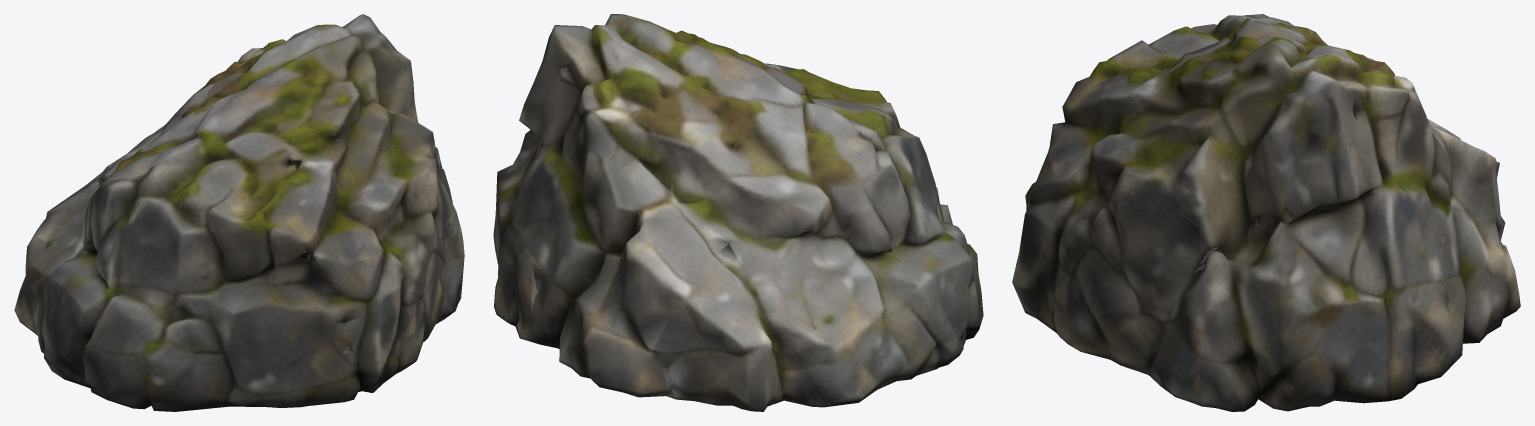
Rendered from rock2.glb.
3 views of the same model, side by side, from view 1: azimuth 30°, elevation 25°; view 2: azimuth 150°, elevation 25°; view 3: azimuth 270°, elevation 25° (orthographic). The views are drawn at different scales.
Visible parts, largest first — view 1: MV_rock2; view 2: MV_rock2; view 3: MV_rock2.
Boxes of the visible parts, x1,y1,x2,y2 form: MV_rock2: (14,14,464,411); MV_rock2: (493,14,983,411); MV_rock2: (1012,14,1520,411).
Size of the model in its own units: 2.96 by 1.75 by 2.63.
Materials: 1 (1 with a texture image).
